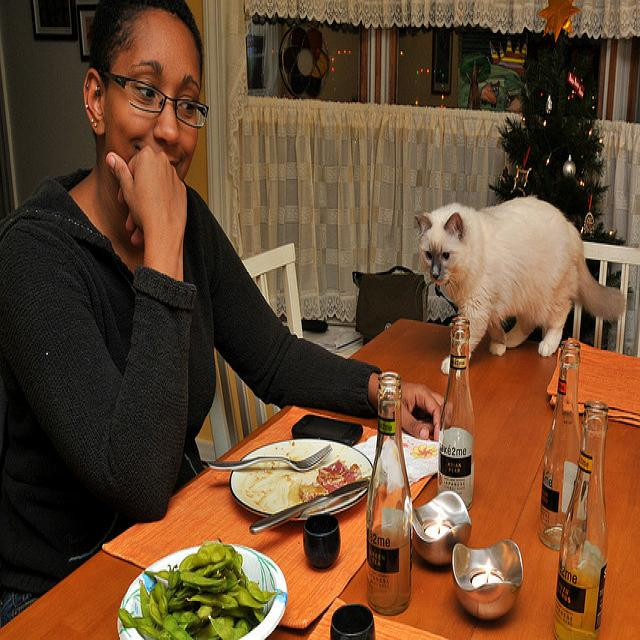chair: (210, 240, 306, 461), (566, 241, 640, 360), (265, 270, 277, 318)
dining table: (0, 315, 640, 638), (3, 318, 455, 632)
